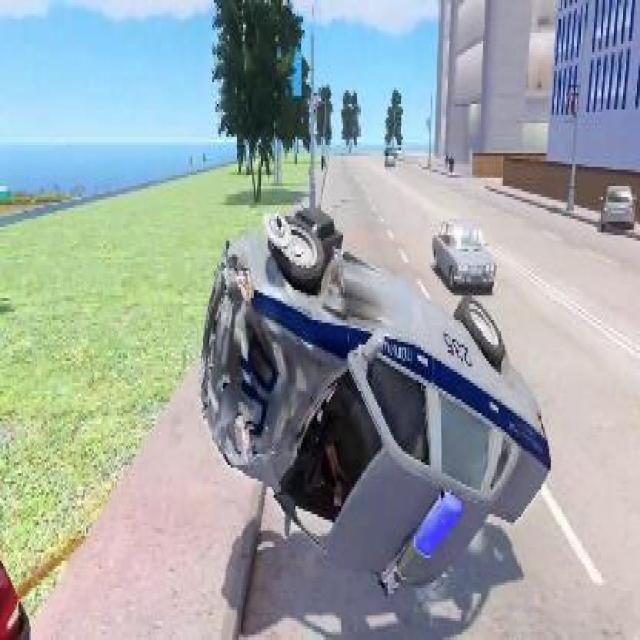accident: (197, 200, 549, 604)
